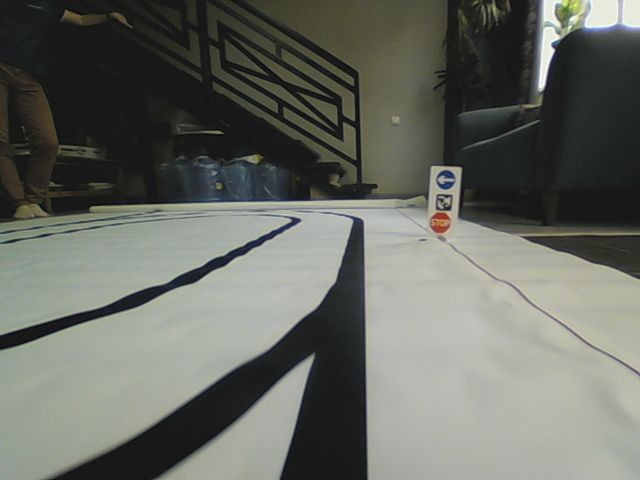Stop: (428, 212, 451, 236)
